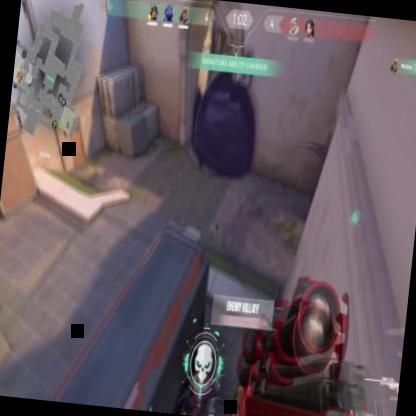enemy: (173, 354, 219, 416)
